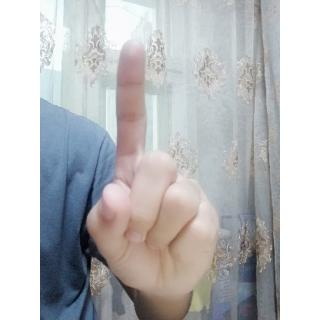BAA: (80, 33, 220, 300)
